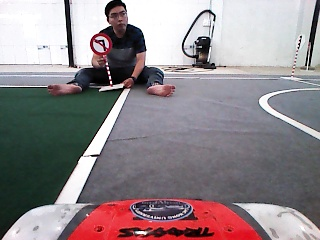ban: (88, 32, 114, 56)
